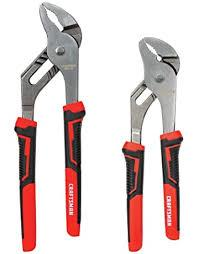pliers: (13, 1, 85, 253), (120, 35, 183, 253)
